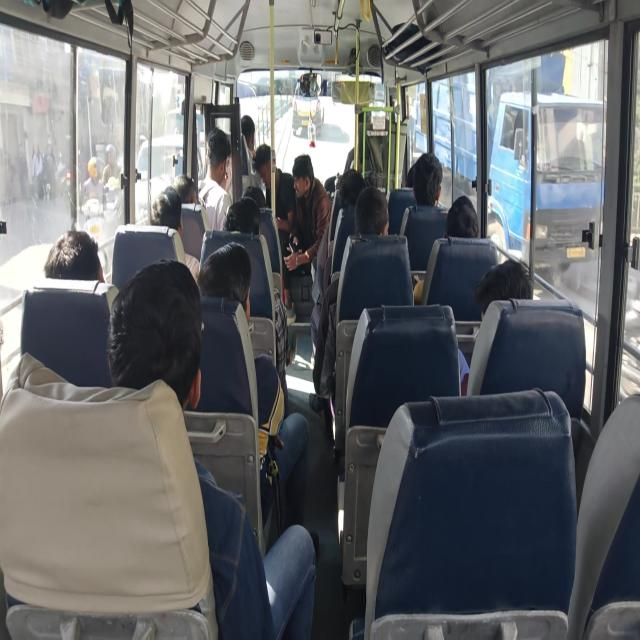person: (116, 273, 204, 407), (48, 230, 108, 308), (199, 240, 256, 311)
